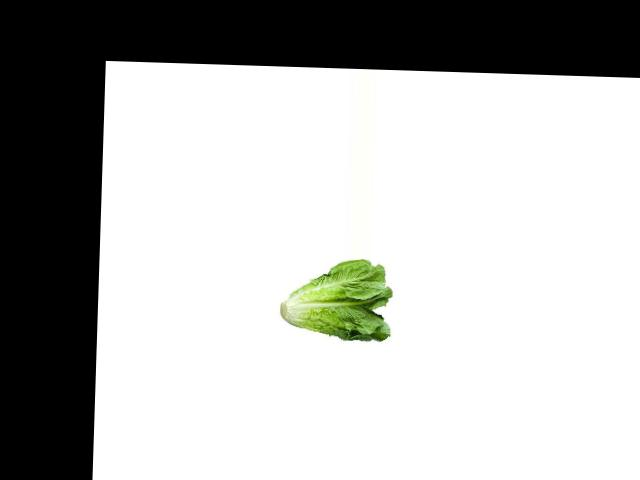lettuce: (276, 257, 393, 344)
